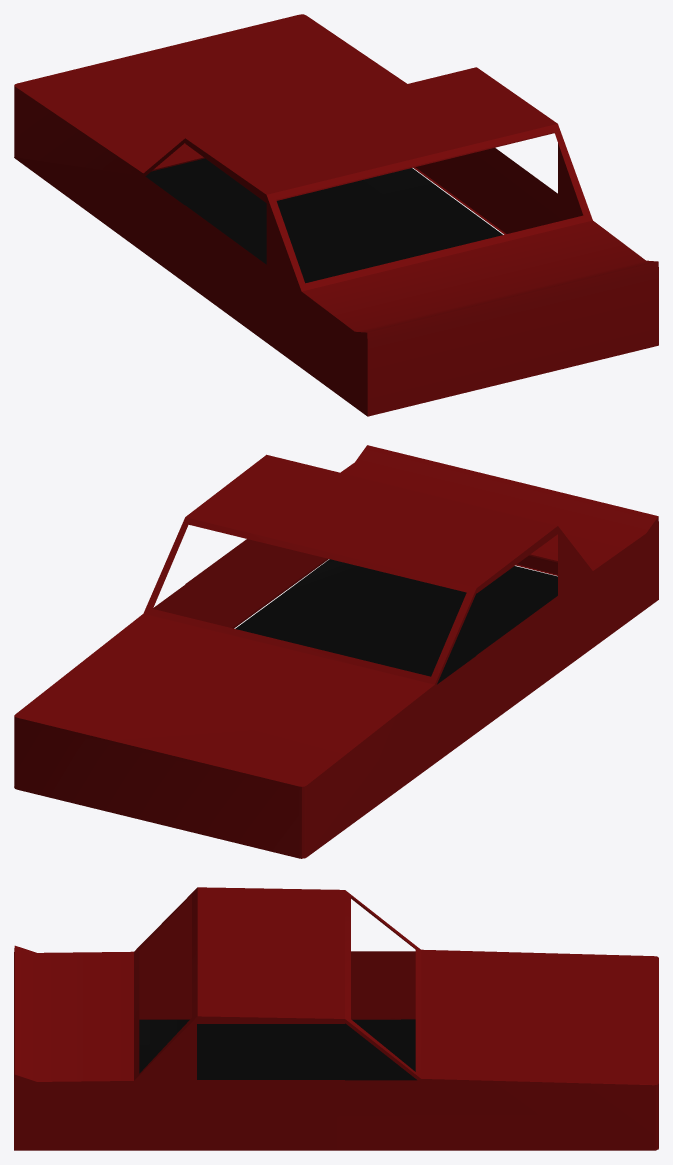
File: car shape.fbx
3 renders of one model, top to bottom at view 1: azimuth 30°, elevation 25°; view 2: azimuth 150°, elevation 25°; view 3: azimuth 270°, elevation 25°, orthographic. The views are drawn at different scales.
Visible parts, largest first — view 1: Box001; view 2: Box001; view 3: Box001.
Boxes of the visible parts, bbox=[...] form: Box001: bbox=[14, 14, 658, 416]; Box001: bbox=[14, 445, 658, 858]; Box001: bbox=[14, 887, 658, 1150].
Bounding box in the file's own units: 86.76 × 42.07 × 183.
